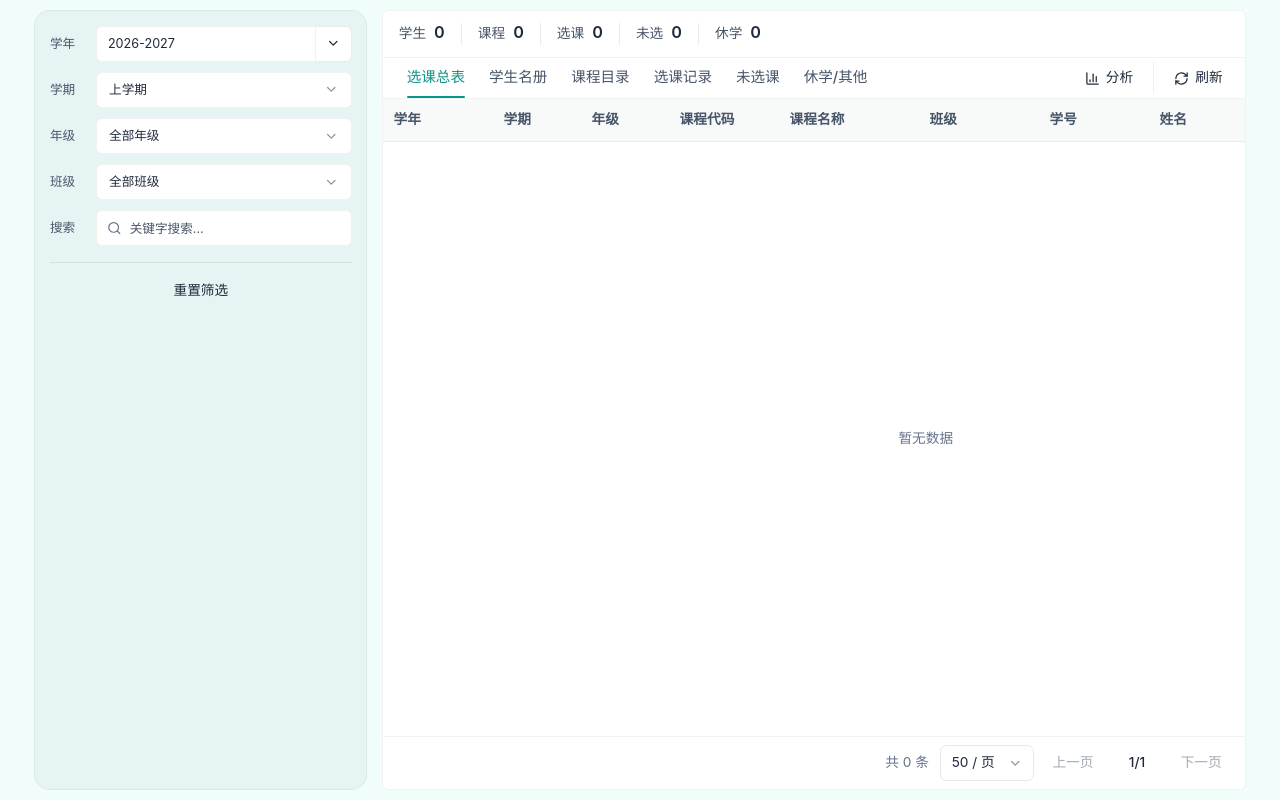
Test: XBK page load failures › still clears an invalid selected class when successful metadata no longer includes it
Expected: the text "暂无数据" is shown, [898,430,953,446]
Click the dropdown labelled "班级" at (224, 182), box [96,164,352,200]
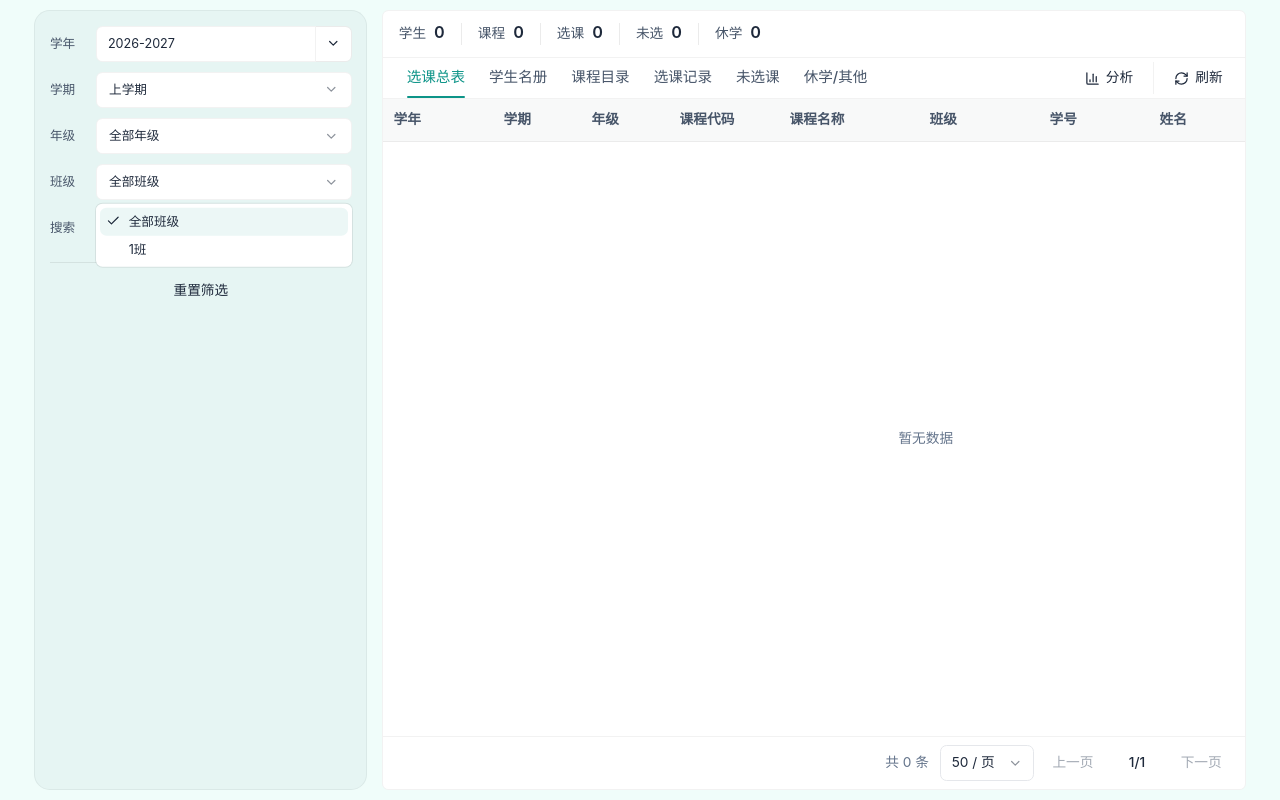
Click the option "1班" at (138, 249), box [129,241,146,256]
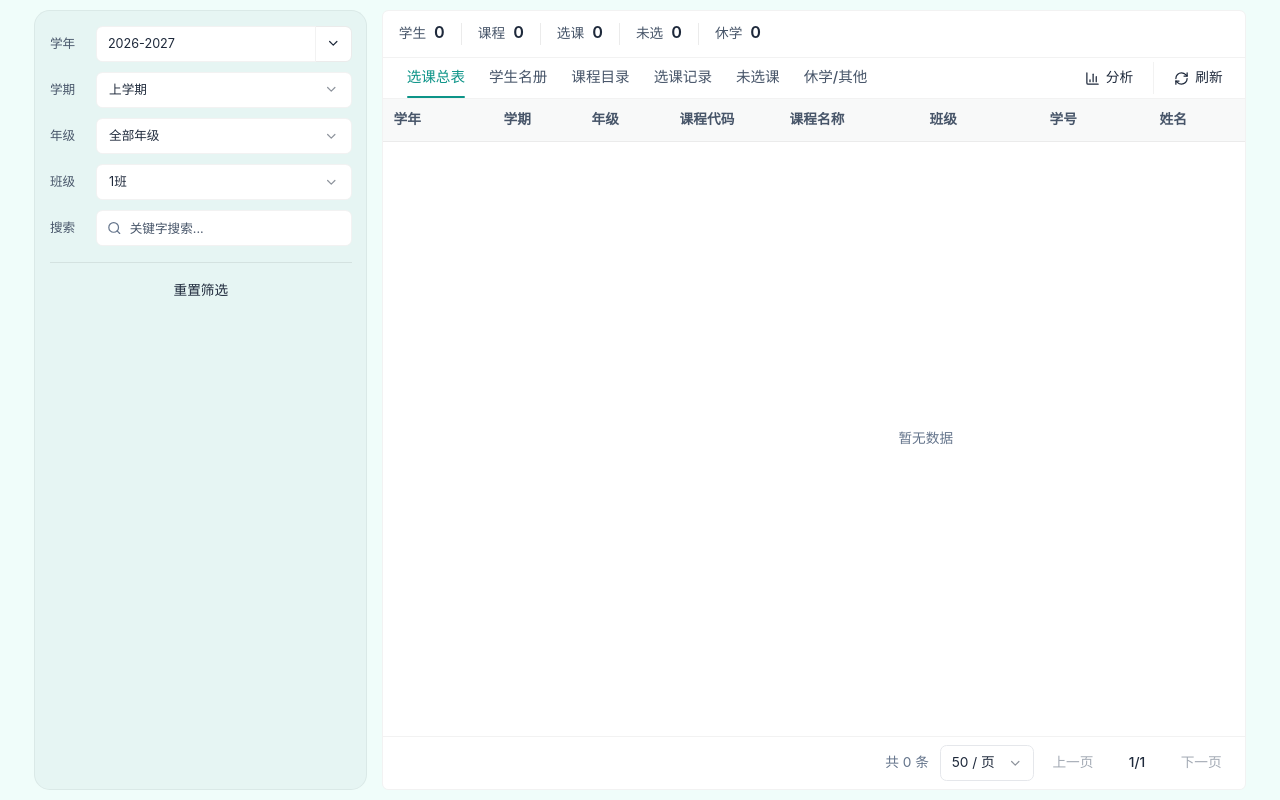
Click the button "刷新" at (1198, 78), box [1164,62,1232,94]
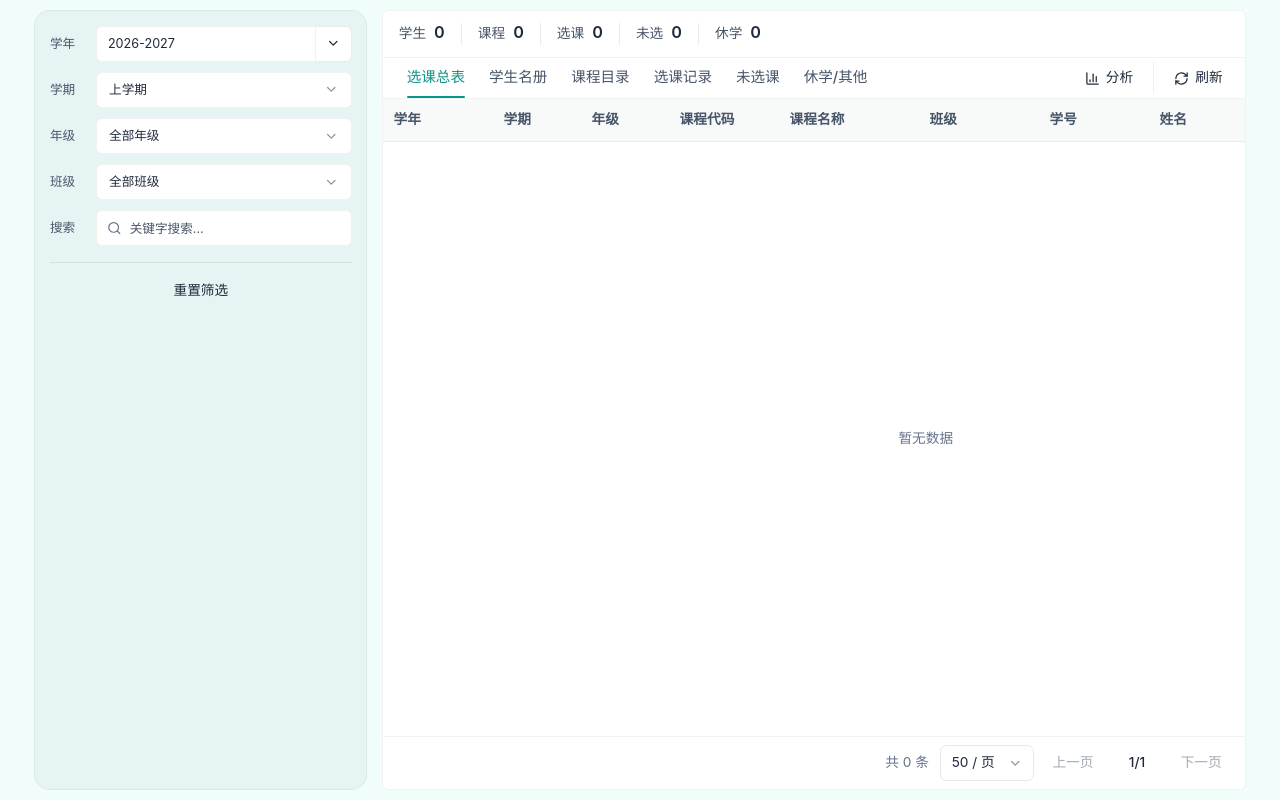
Result: the dropdown labelled "班级" reads "全部班级" at [96,164,352,200]
